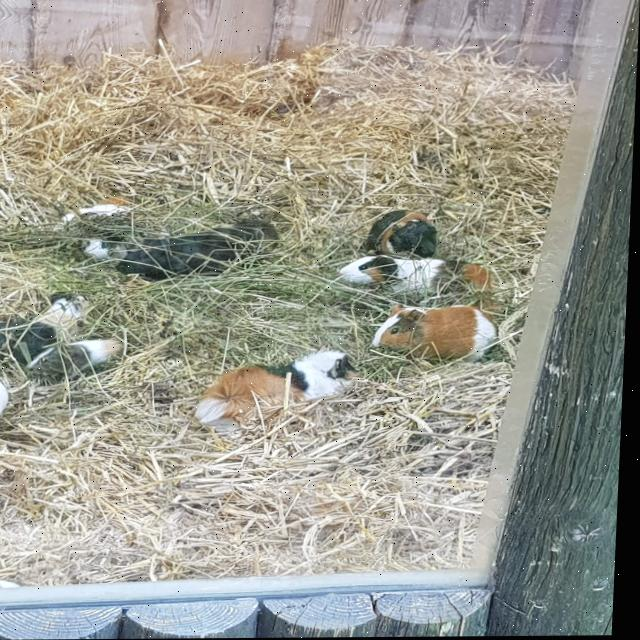guinea pig: (201, 351, 367, 436), (376, 304, 501, 363), (337, 255, 497, 298), (121, 229, 234, 282), (0, 294, 95, 350), (365, 211, 443, 254), (0, 375, 13, 439)
